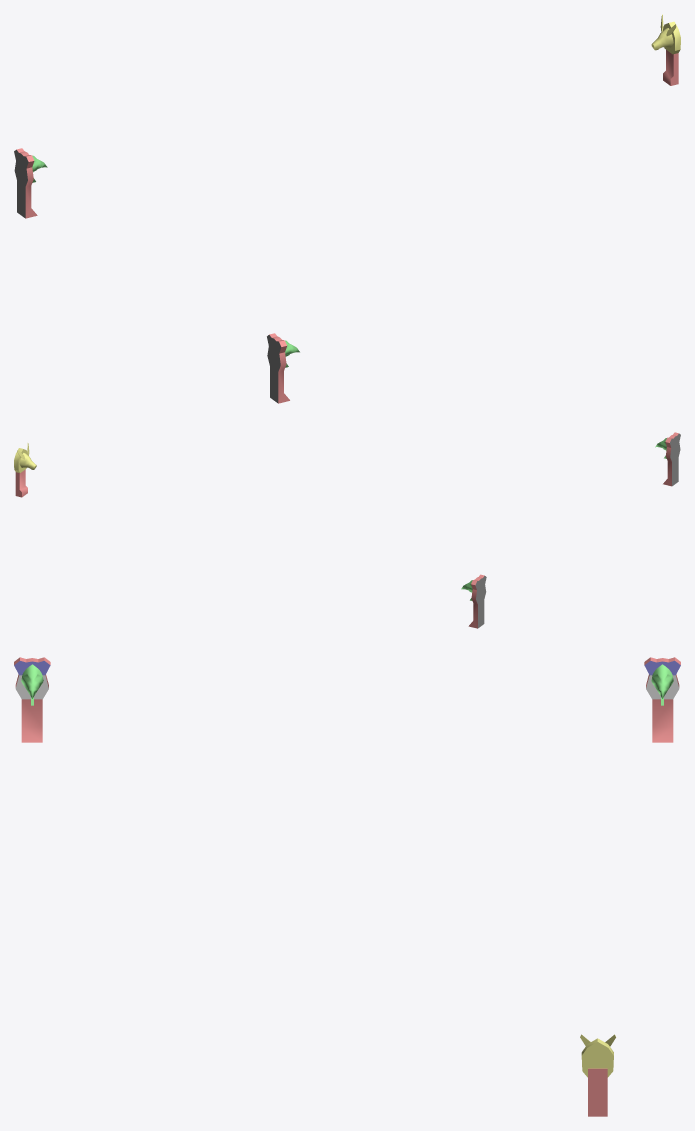
File: SSQ_dungeon_S__SSQ_statue_Objset02.gltf
3 renders of one model, top to bottom at view 1: azimuth 30°, elevation 25°; view 2: azimuth 150°, elevation 25°; view 3: azimuth 270°, elevation 25°, orthographic. The views are drawn at different scales.
Visible parts, largest first — view 1: SSQ_statue_Objset02; view 2: SSQ_statue_Objset02; view 3: SSQ_statue_Objset02.
Part boxes in pixels (left/top/right/bottom): SSQ_statue_Objset02: left=14, top=14, right=680, bottom=403; SSQ_statue_Objset02: left=14, top=432, right=680, bottom=628; SSQ_statue_Objset02: left=14, top=657, right=680, bottom=1116.
Bounding box in the file's own units: 7.21 × 0.6988 × 5.33.
